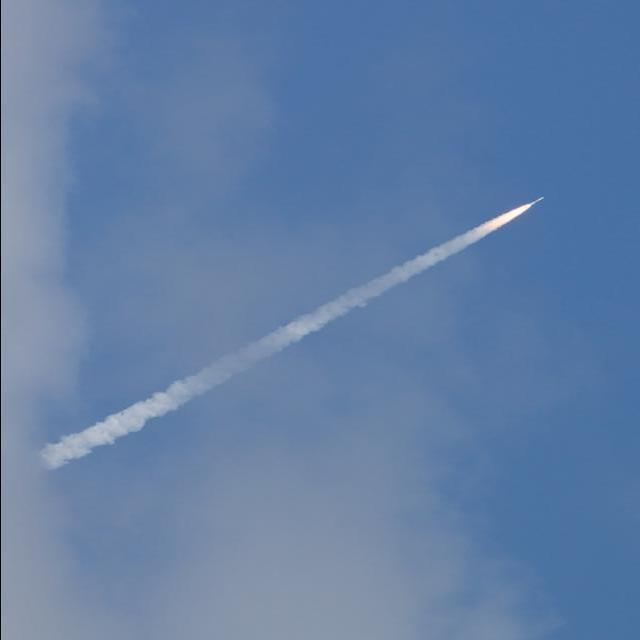missile: (530, 196, 544, 207)
